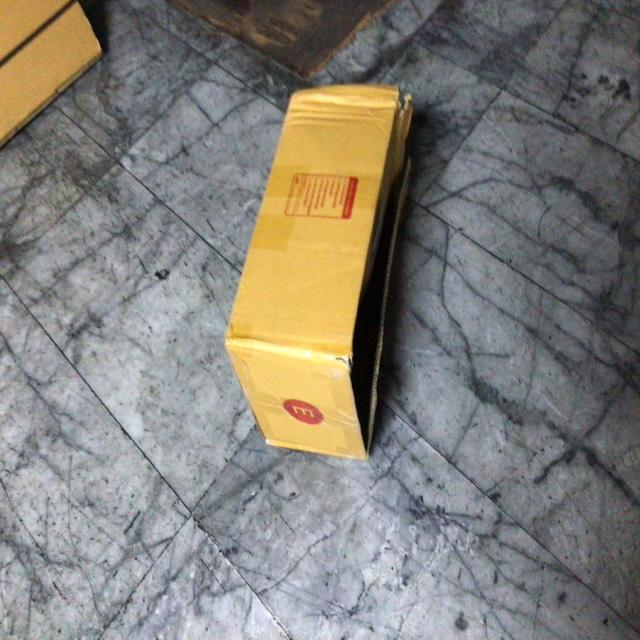cardboard: (229, 87, 415, 455)
